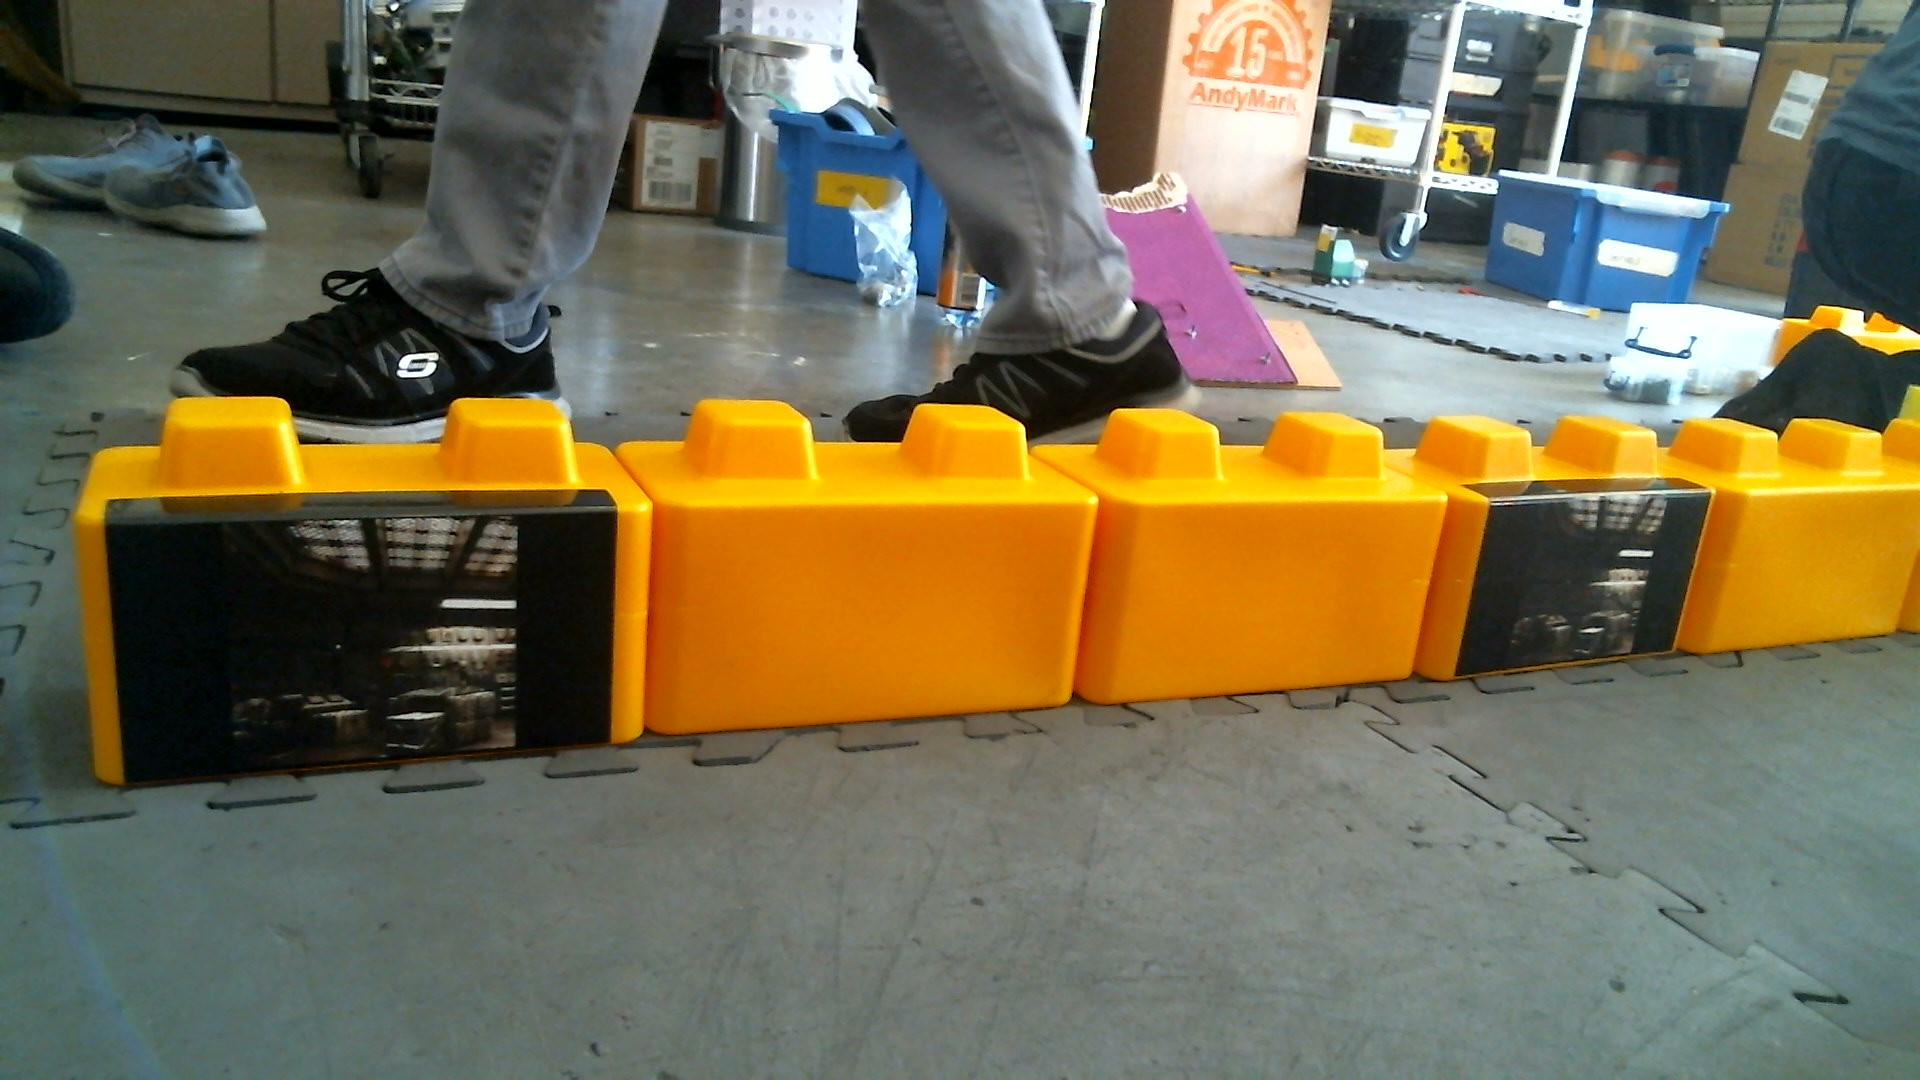skystone: (78, 400, 650, 778), (1406, 404, 1720, 694)
stone: (632, 396, 1097, 719), (1034, 390, 1457, 684), (1677, 411, 1913, 644)
